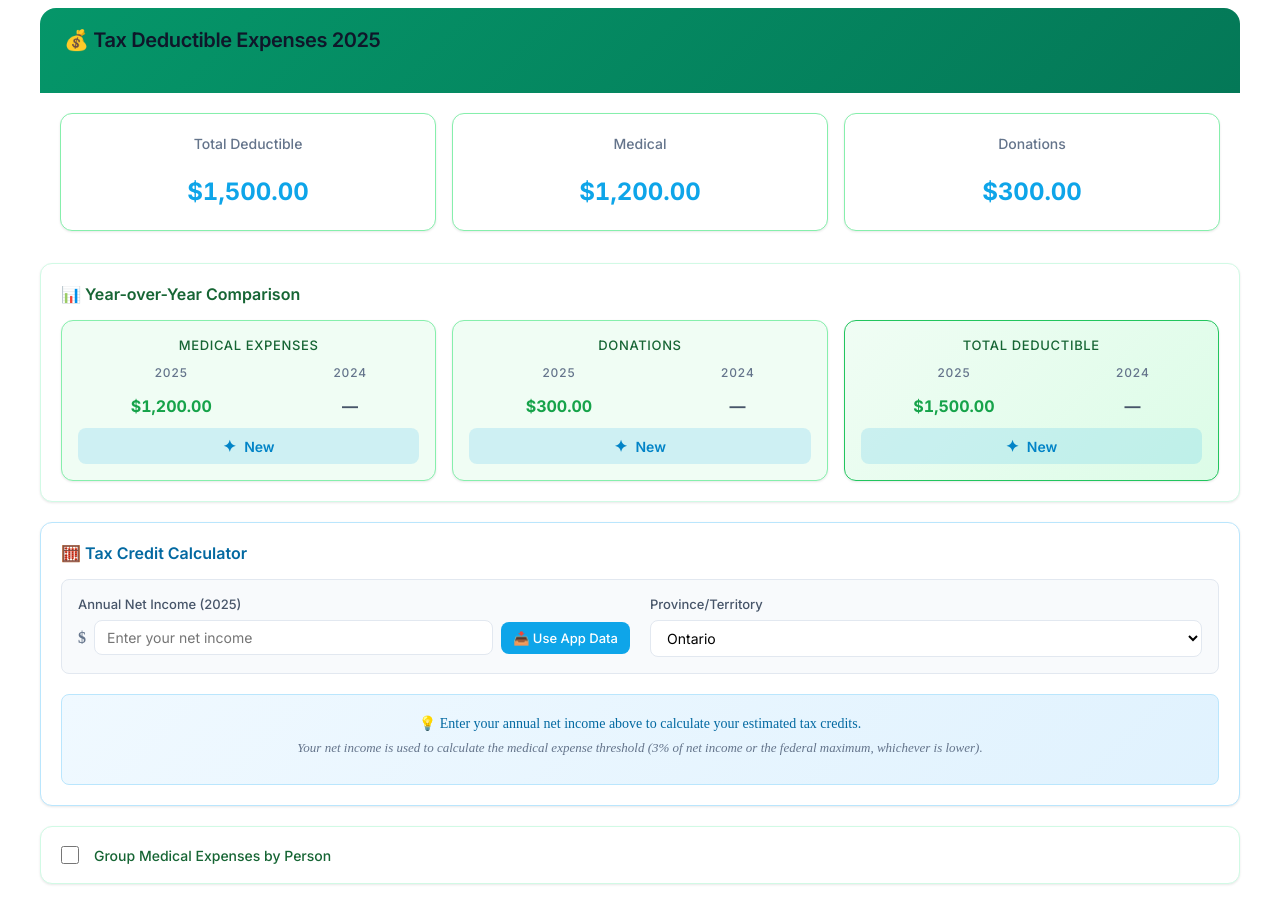
Test: TaxDeductible › Person-Grouped Display › should expand person group to show providers
Check: the text "Group Medical Expenses by Person" is shown, box left=94, top=847, right=331, bottom=864
Click the checkbox: (70, 855) left=61, top=846, right=79, bottom=864
(page scrolled)
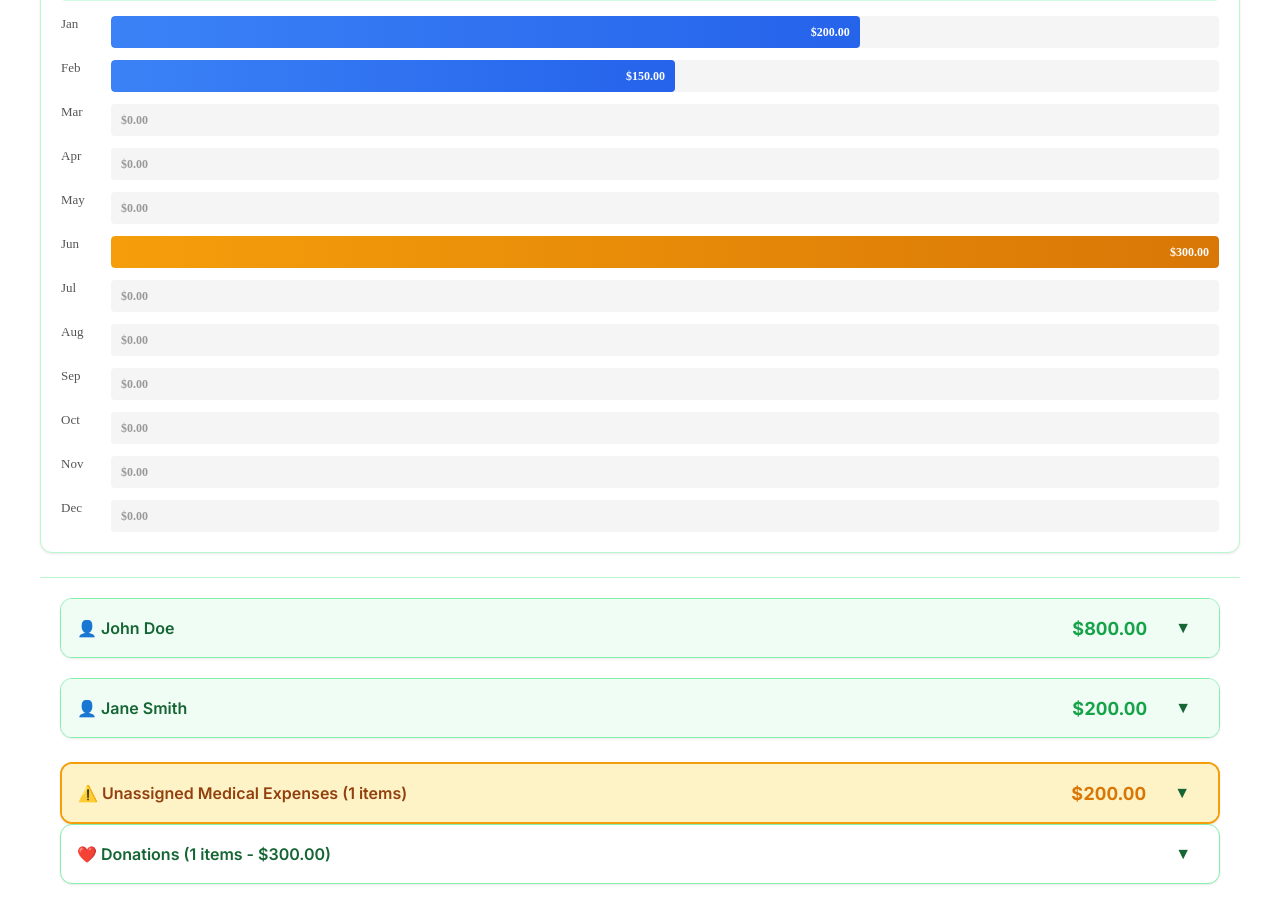
Check: the heading "👤 John Doe" is shown, box left=77, top=618, right=174, bottom=638
Click to expand John Doe's group
Click the text "👤 John Doe": (640, 628) left=61, top=599, right=1219, bottom=657
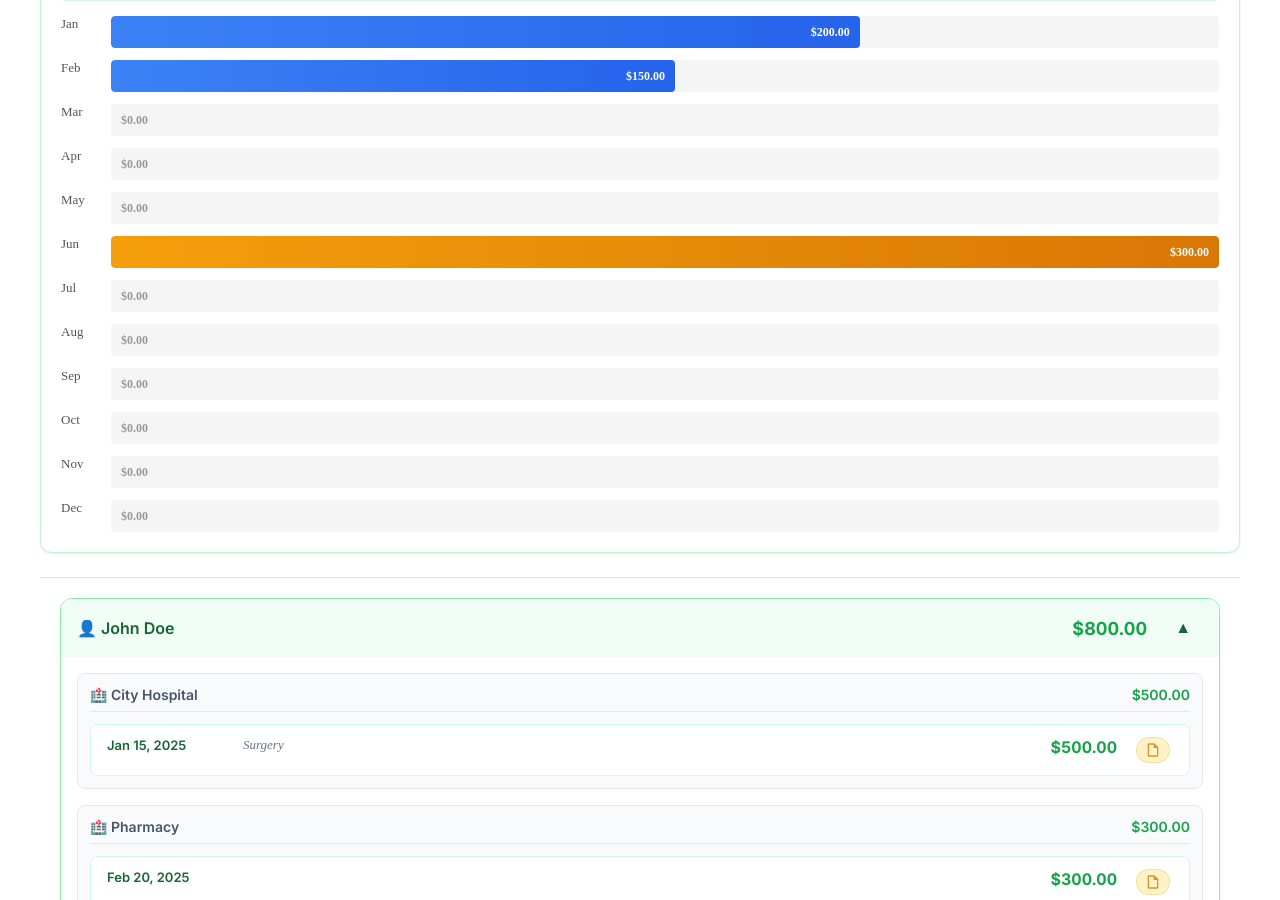
Check: the text "🏥 City Hospital" is shown, box left=90, top=686, right=198, bottom=703
Check: the text "🏥 Pharmacy" is shown, box left=90, top=818, right=179, bottom=835
